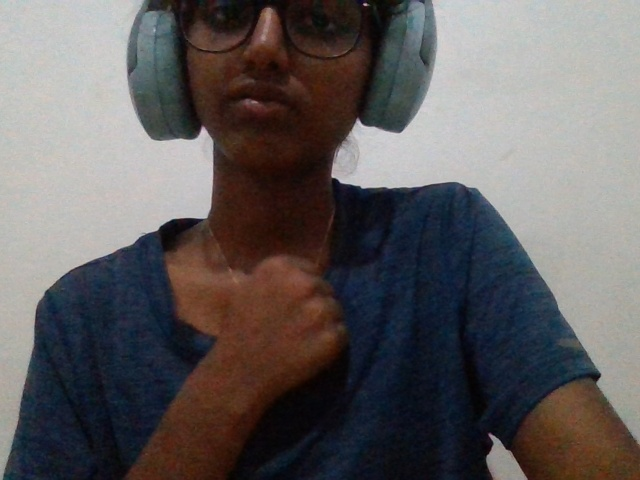Sorry: (169, 243, 359, 437)
